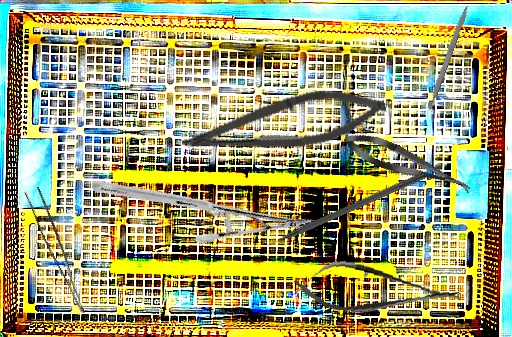Hook Surgical: (257, 169, 427, 252)
Micro Scissor: (177, 74, 391, 178), (291, 255, 464, 325), (339, 125, 476, 202)
Needle Holder: (90, 117, 314, 293)
Scalpel Handle: (425, 4, 470, 111)
Tissue Forceps: (20, 185, 99, 314)
